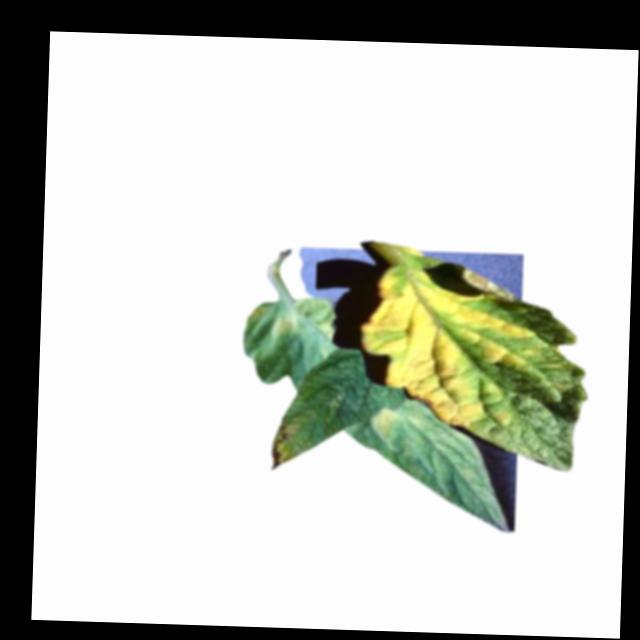Leaf_Mold: (357, 264, 573, 429), (269, 413, 309, 472), (371, 407, 425, 440)
